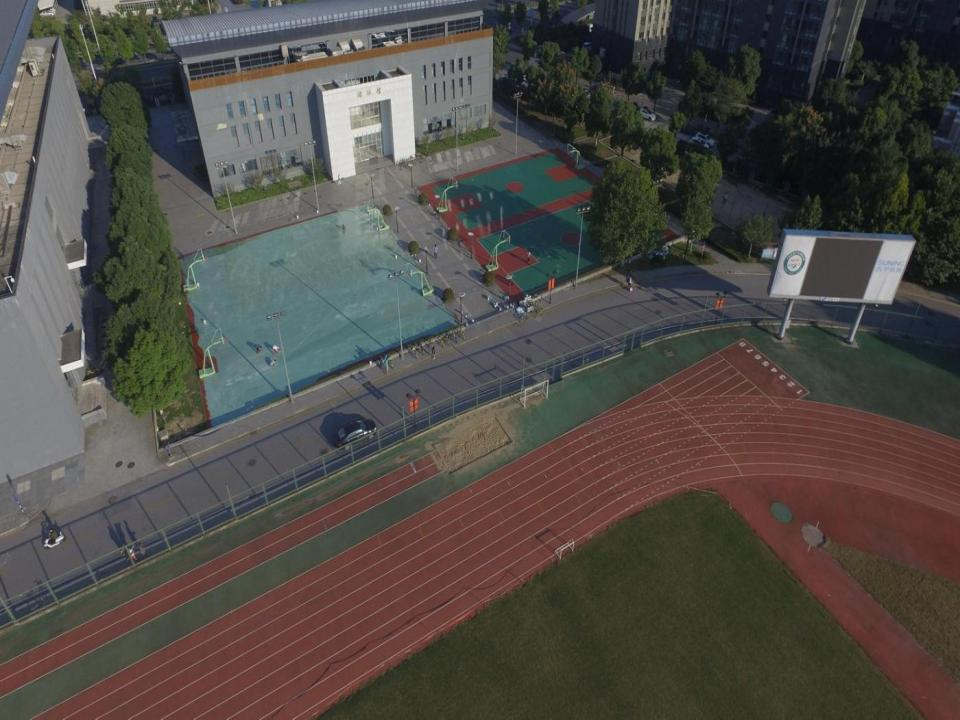car: (333, 417, 377, 450), (695, 131, 715, 146), (688, 136, 709, 150), (497, 70, 516, 84), (638, 108, 656, 121), (520, 73, 535, 88), (583, 88, 594, 98)
van: (583, 39, 595, 52)
